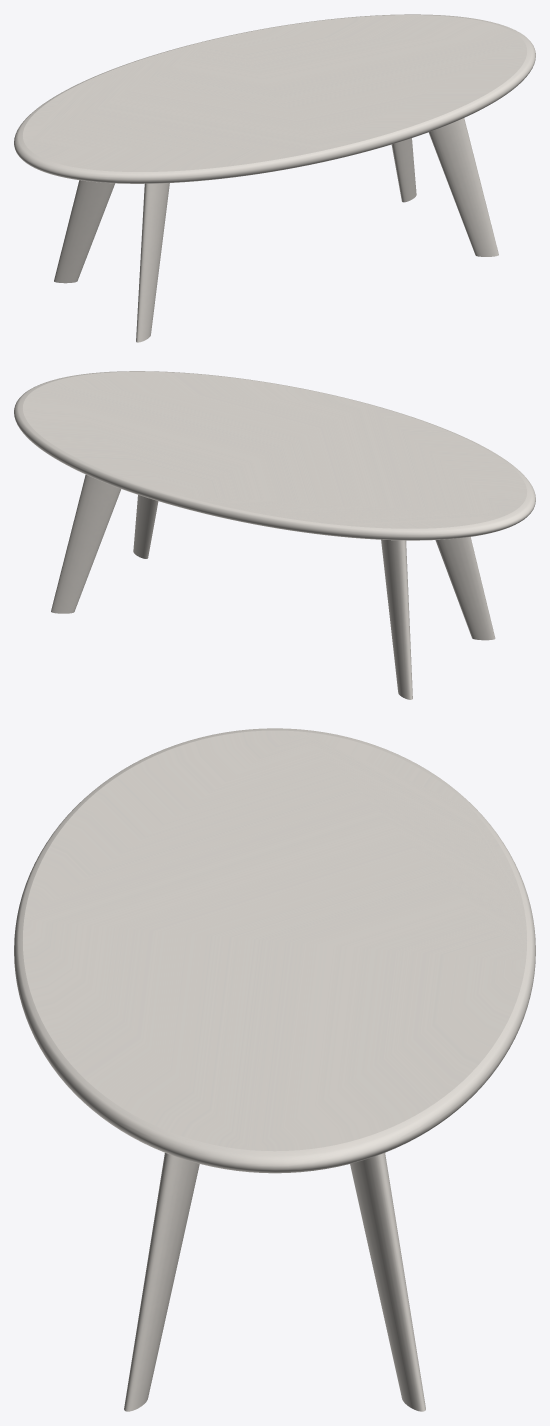
Rendered from pearlwhite_ellips_round_ferdinantwalnut.glb.
3 views of the same model, one above another, from view 1: azimuth 30°, elevation 25°; view 2: azimuth 150°, elevation 25°; view 3: azimuth 270°, elevation 25° (orthographic). The views are drawn at different scales.
Visible parts, largest first — view 1: round_ellips, ferdinandwalnut; view 2: round_ellips, ferdinandwalnut; view 3: round_ellips, ferdinandwalnut.
Boxes of the visible parts, <box> form: round_ellips: <box>14,14,535,183</box>; ferdinandwalnut: <box>54,118,498,342</box>; round_ellips: <box>14,371,535,540</box>; ferdinandwalnut: <box>51,475,495,699</box>; round_ellips: <box>14,728,535,1173</box>; ferdinandwalnut: <box>124,1153,425,1411</box>.
Size of the model in its own units: 7.5 by 2.51 by 3.8.
1 material, 1 textured.
